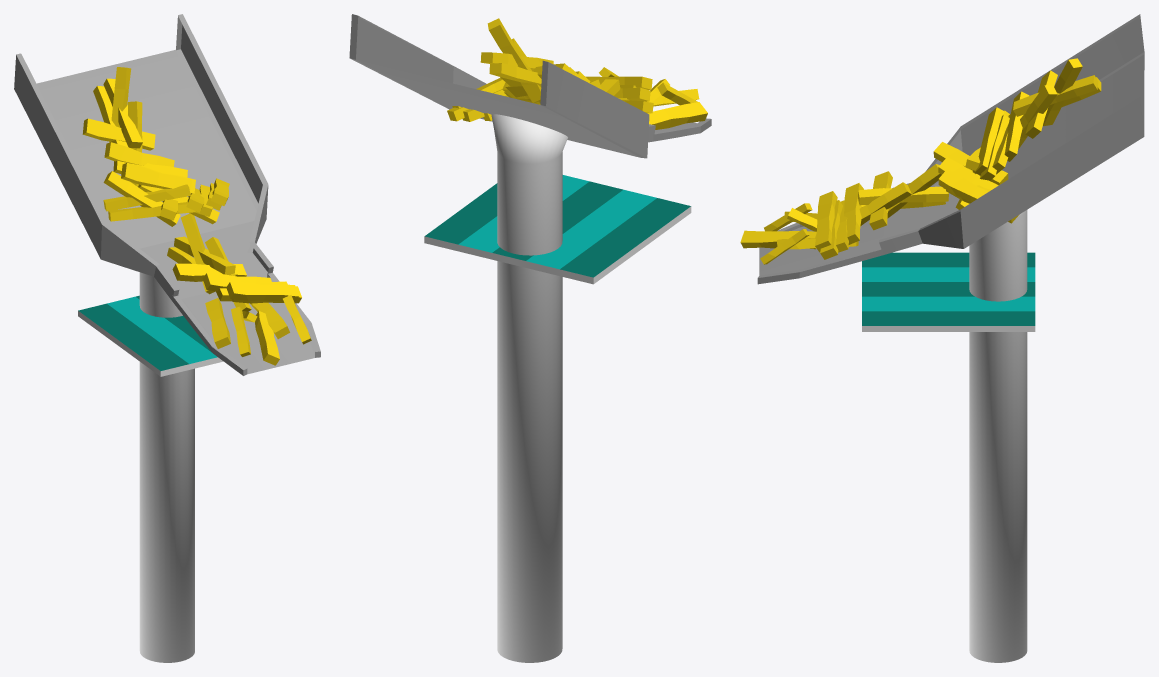
File: Fries .fbx
The picture shows the model from 3 angles, left to right: view 1: azimuth 30°, elevation 25°; view 2: azimuth 150°, elevation 25°; view 3: azimuth 270°, elevation 25°; orthographic projection. The views are drawn at different scales.
Visible parts, largest first — view 1: Cylinder.008, Cube.019, Cube.021; view 2: Cylinder.008, Cube.021, Cube.019; view 3: Cylinder.008, Cube.019, Cube.021.
Boxes of the visible parts, bbox=[...] form: Cylinder.008: bbox=[14, 14, 320, 662]; Cube.019: bbox=[82, 67, 311, 365]; Cube.021: bbox=[78, 295, 223, 376]; Cylinder.008: bbox=[349, 14, 711, 662]; Cube.021: bbox=[424, 175, 691, 284]; Cube.019: bbox=[447, 18, 707, 129]; Cylinder.008: bbox=[757, 14, 1144, 662]; Cube.019: bbox=[740, 58, 1101, 264]; Cube.021: bbox=[862, 252, 1035, 331].
Size of the model in its own units: 2.32 by 7.57 by 4.66.
3 materials, 3 textured.
